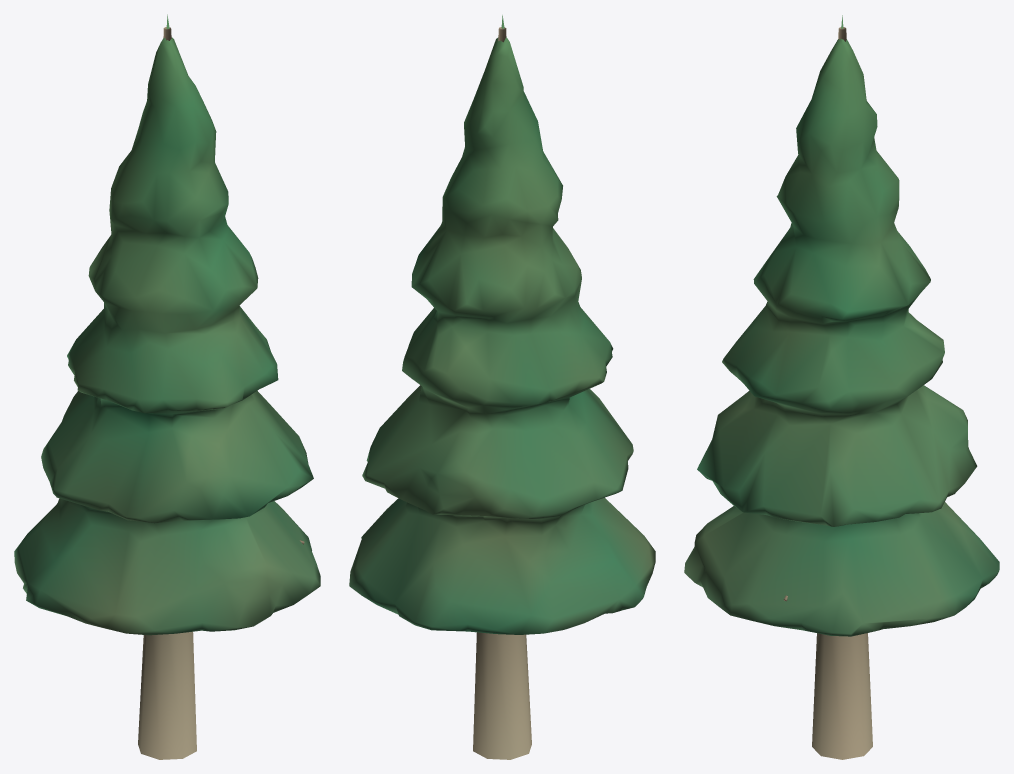
The model's file is conifer.glb.
3 views of the same model, side by side, from view 1: azimuth 30°, elevation 25°; view 2: azimuth 150°, elevation 25°; view 3: azimuth 270°, elevation 25° (orthographic).
Parts seen in each view (by area): view 1: conifer; view 2: conifer; view 3: conifer.
Part boxes in pixels (box(x1,y1,x2,y2)): conifer: box(14, 14, 320, 759); conifer: box(349, 15, 655, 759); conifer: box(684, 15, 999, 759).
Size of the model in its own units: 3.31 by 8.47 by 3.31.
